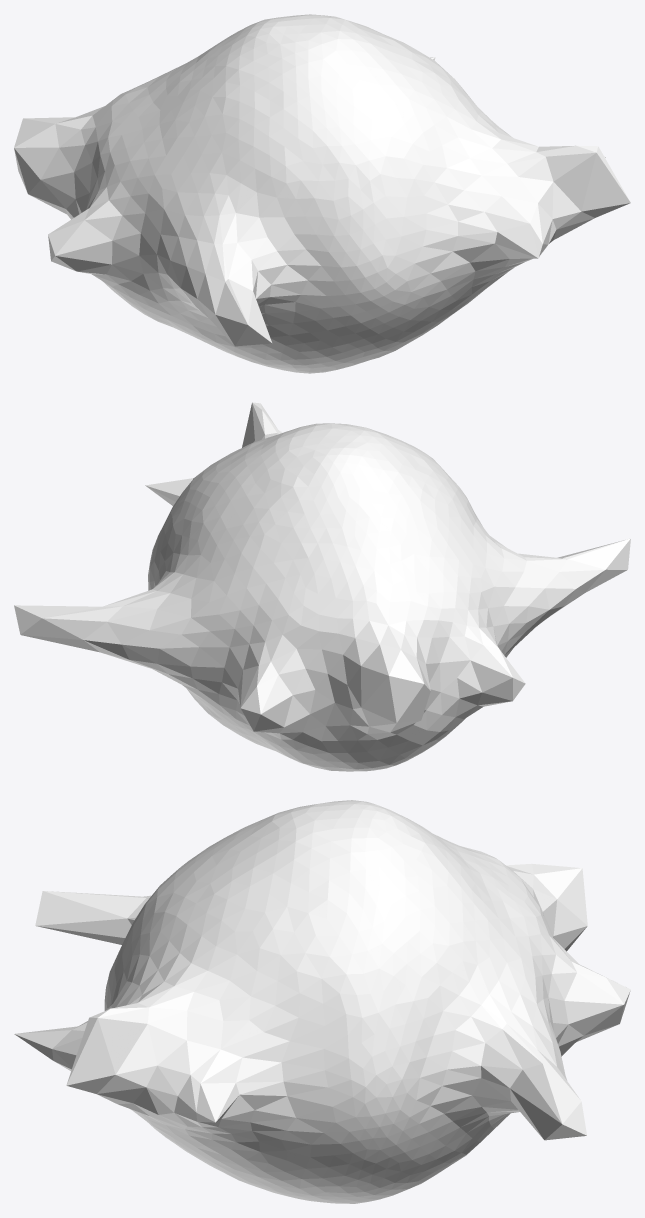
The model's file is plane_rotZ45[0.3,0.0,0.3]s1[-1.7,0.0,-1.7]._00050.obj.
3 renders of one model, top to bottom at view 1: azimuth 30°, elevation 25°; view 2: azimuth 150°, elevation 25°; view 3: azimuth 270°, elevation 25°, orthographic. The views are drawn at different scales.
Bounding box in the file's own units: 1.1 × 0.7296 × 1.1.
Materials: 1 (1 with a texture image).
